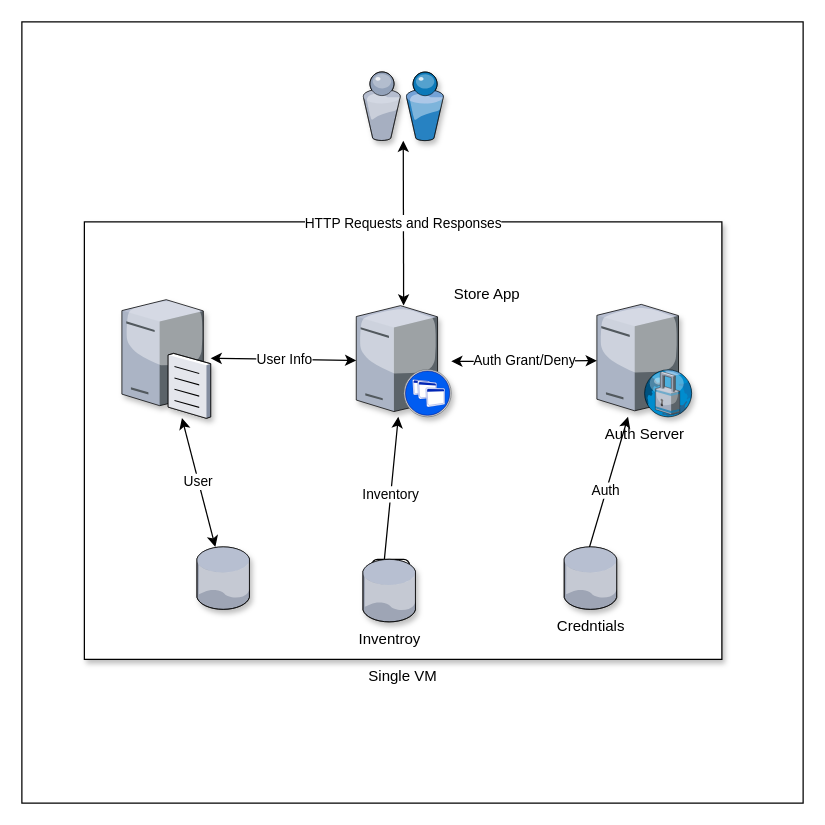
This 825x825 diagram has some shape labels left out. The shapes that lost their labels are listed below. From the top down, each one's centre as x and y in pixels, then its label:
the point at 403,107: Users
the point at 167,358: User Server
the point at 224,579: User Database
